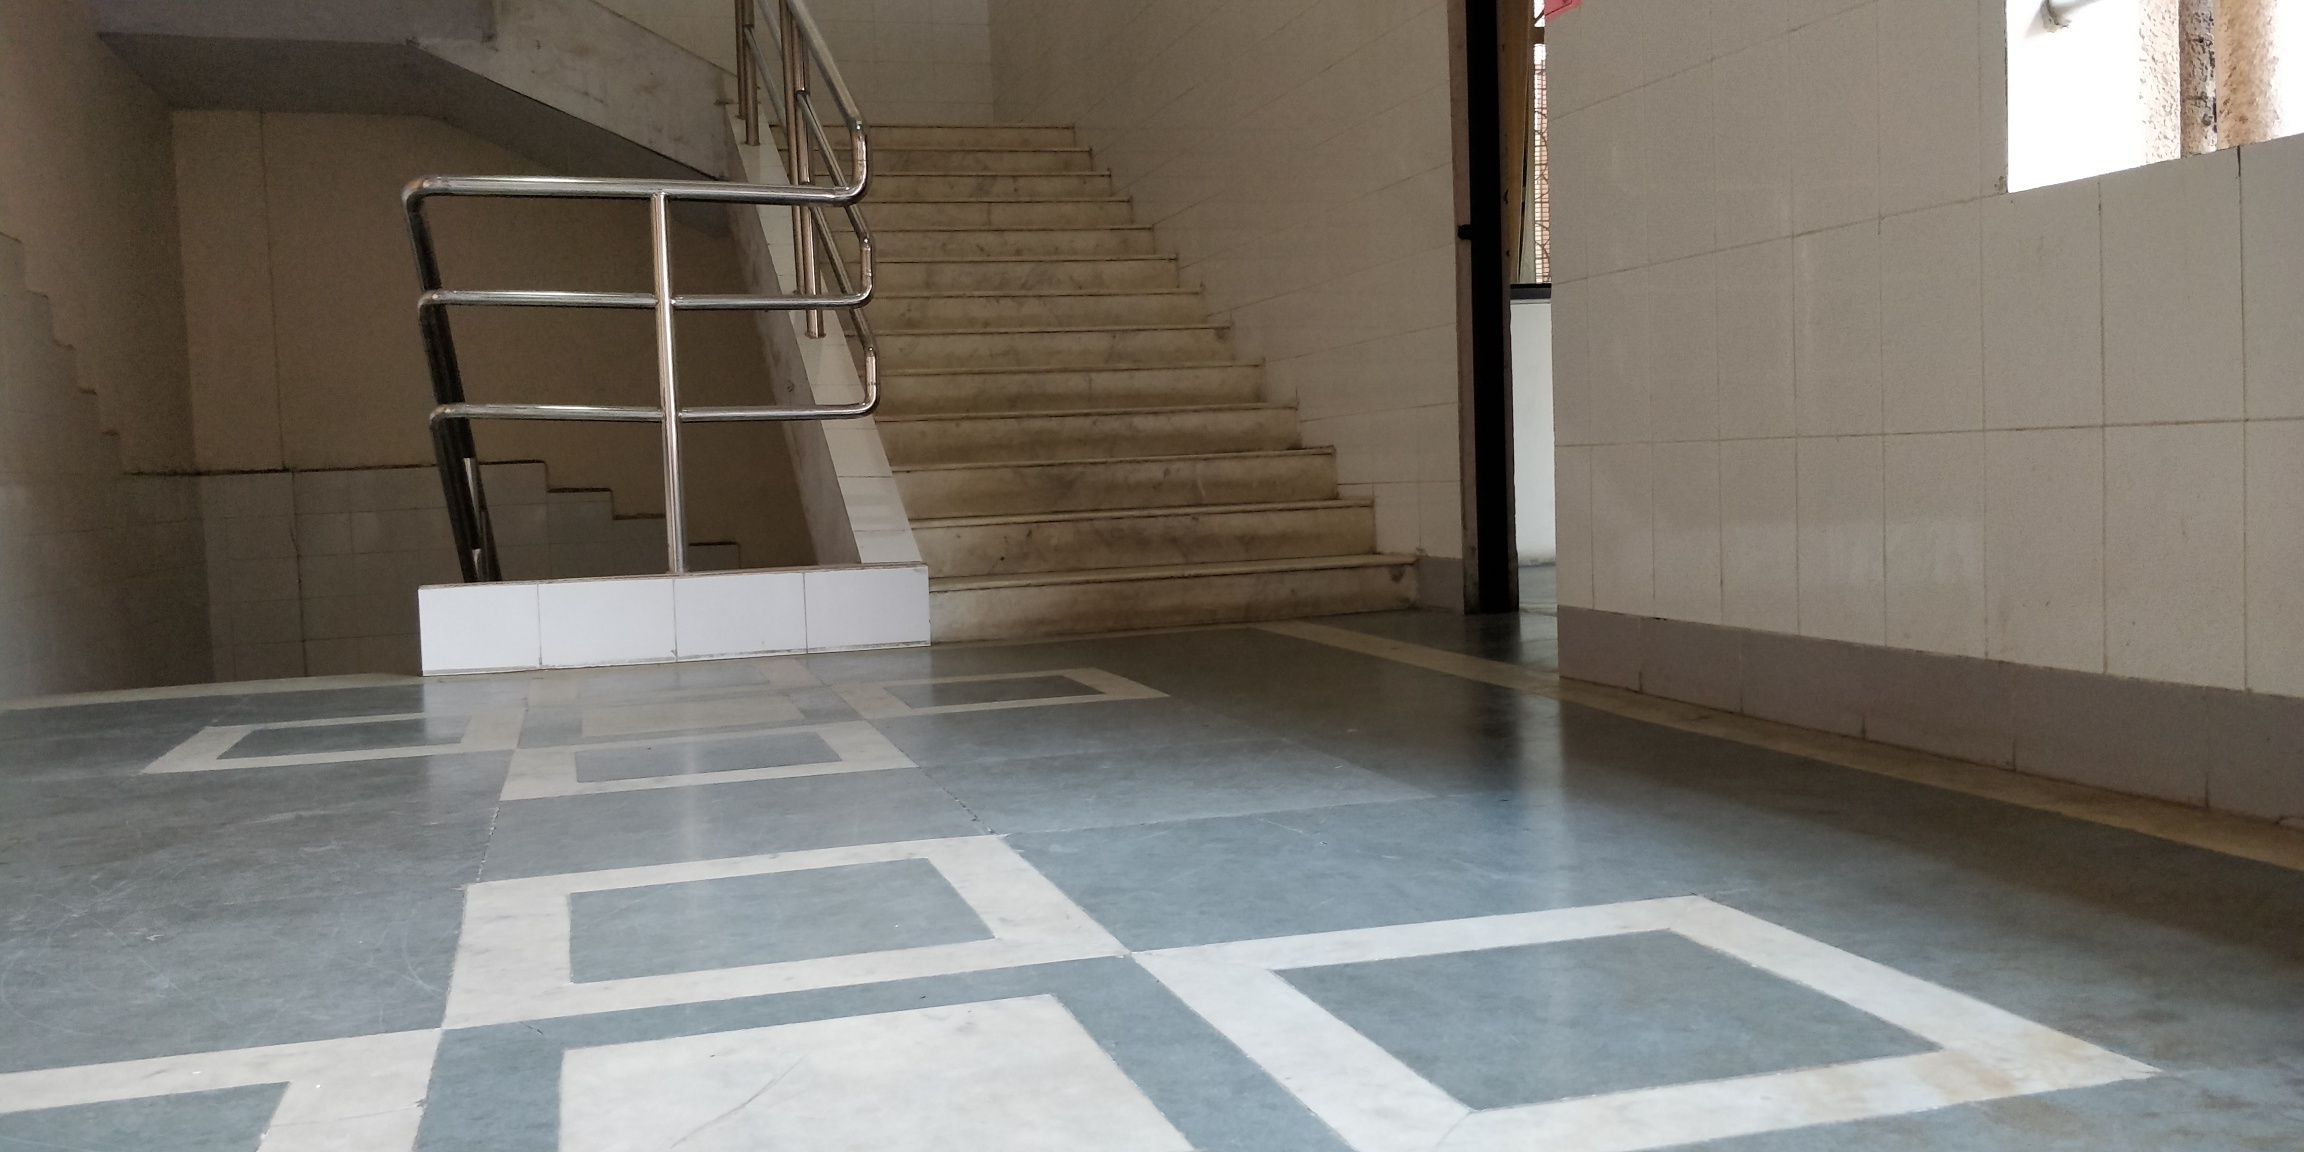stairs_up: (771, 91, 1411, 627)
